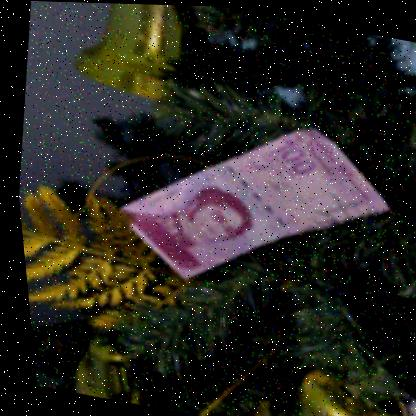one_hundred-front-vef: (92, 90, 405, 316)
